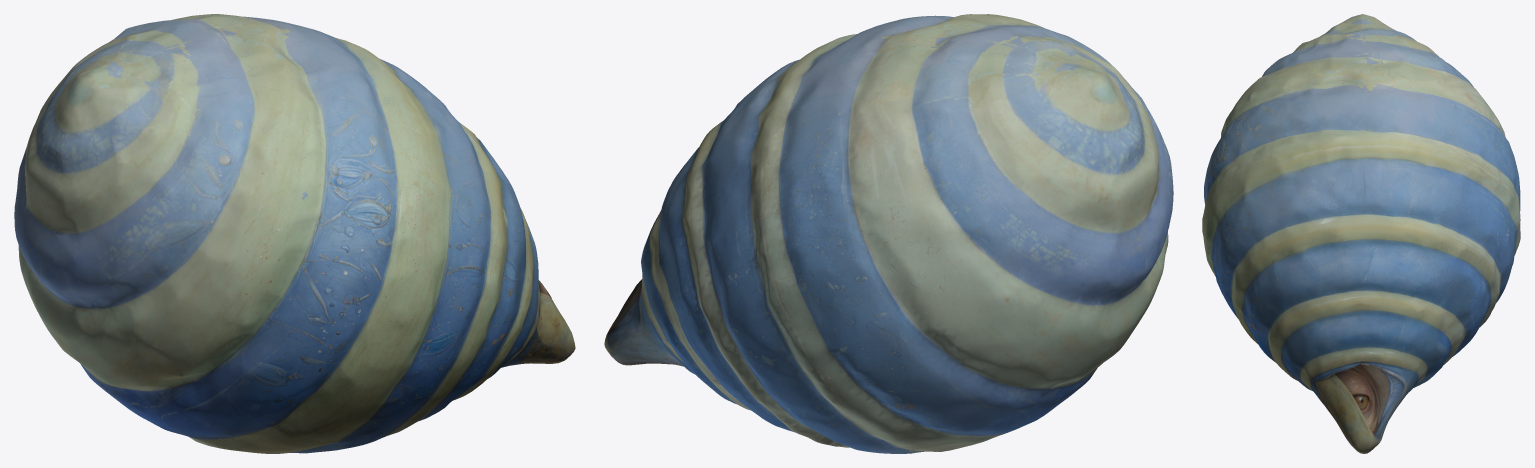
The model's file is glb-1.glb.
3 views of the same model, side by side, from view 1: azimuth 30°, elevation 25°; view 2: azimuth 150°, elevation 25°; view 3: azimuth 270°, elevation 25° (orthographic). The views are drawn at different scales.
Size of the model in its own units: 1.2 by 0.8944 by 0.891.
1 material, 1 textured.
